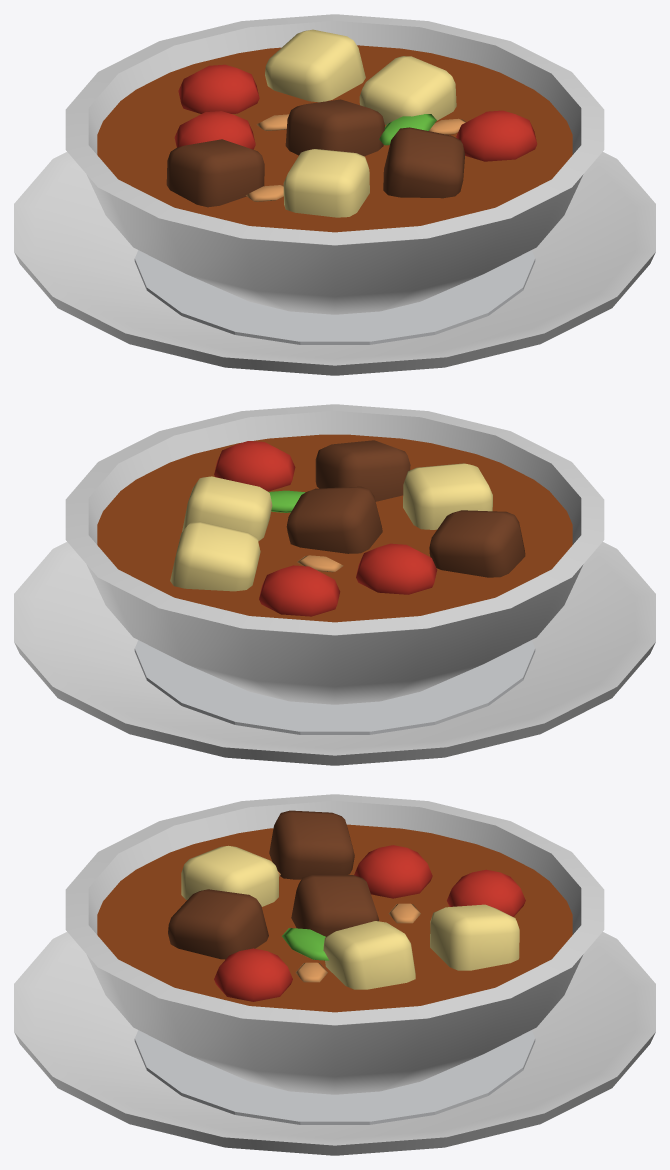
The model's file is dish_stew.glb.
3 renders of one model, top to bottom at view 1: azimuth 30°, elevation 25°; view 2: azimuth 150°, elevation 25°; view 3: azimuth 270°, elevation 25°, orthographic.
Parts seen in each view (by area): view 1: dish_stew; view 2: dish_stew; view 3: dish_stew.
Part boxes in pixels (x1,y1,x2,y2): dish_stew: [14, 14, 655, 375]; dish_stew: [14, 404, 655, 765]; dish_stew: [14, 794, 655, 1155].
Bounding box in the file's own units: 0.56 × 0.1805 × 0.5515.
